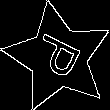P_SE: (27, 30, 89, 85)
